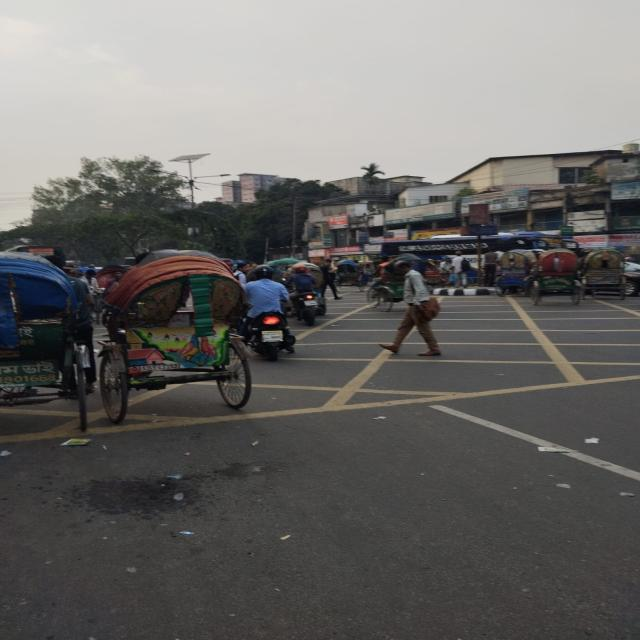person: (379, 260, 442, 358)
